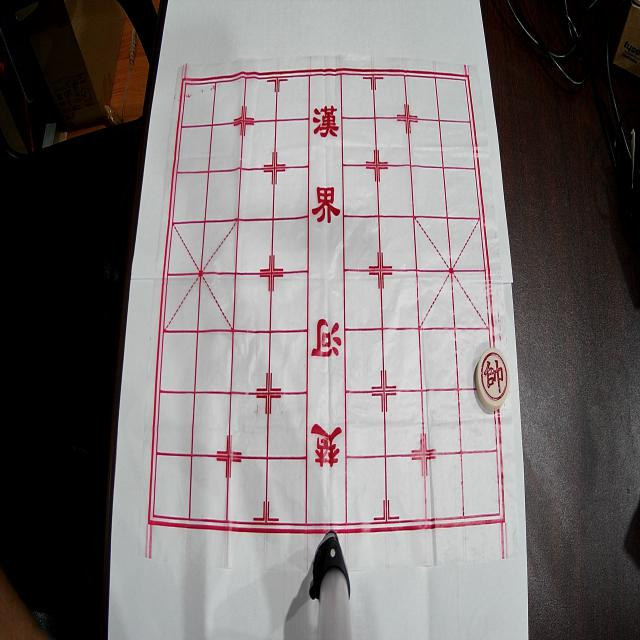red-general: (475, 348, 510, 411)
